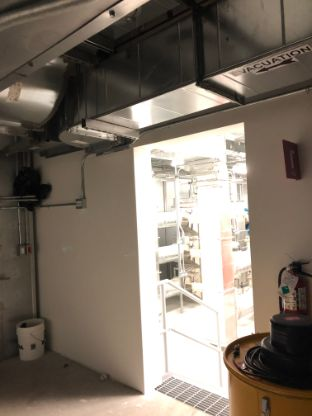Duct: (42, 1, 309, 155)
